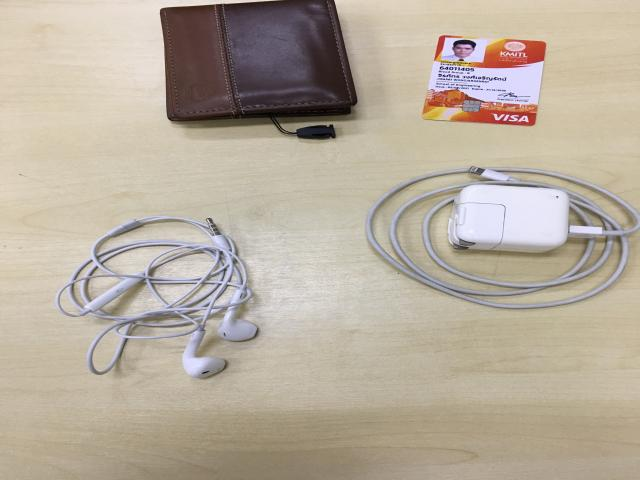Wallet: (159, 0, 358, 124)
wire: (364, 168, 640, 312), (53, 216, 259, 380)
